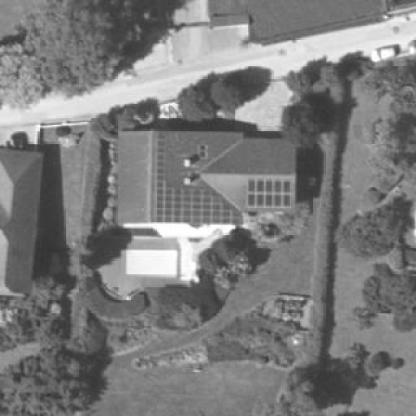solar-pv-panel: (155, 132, 243, 223), (248, 180, 293, 207)
